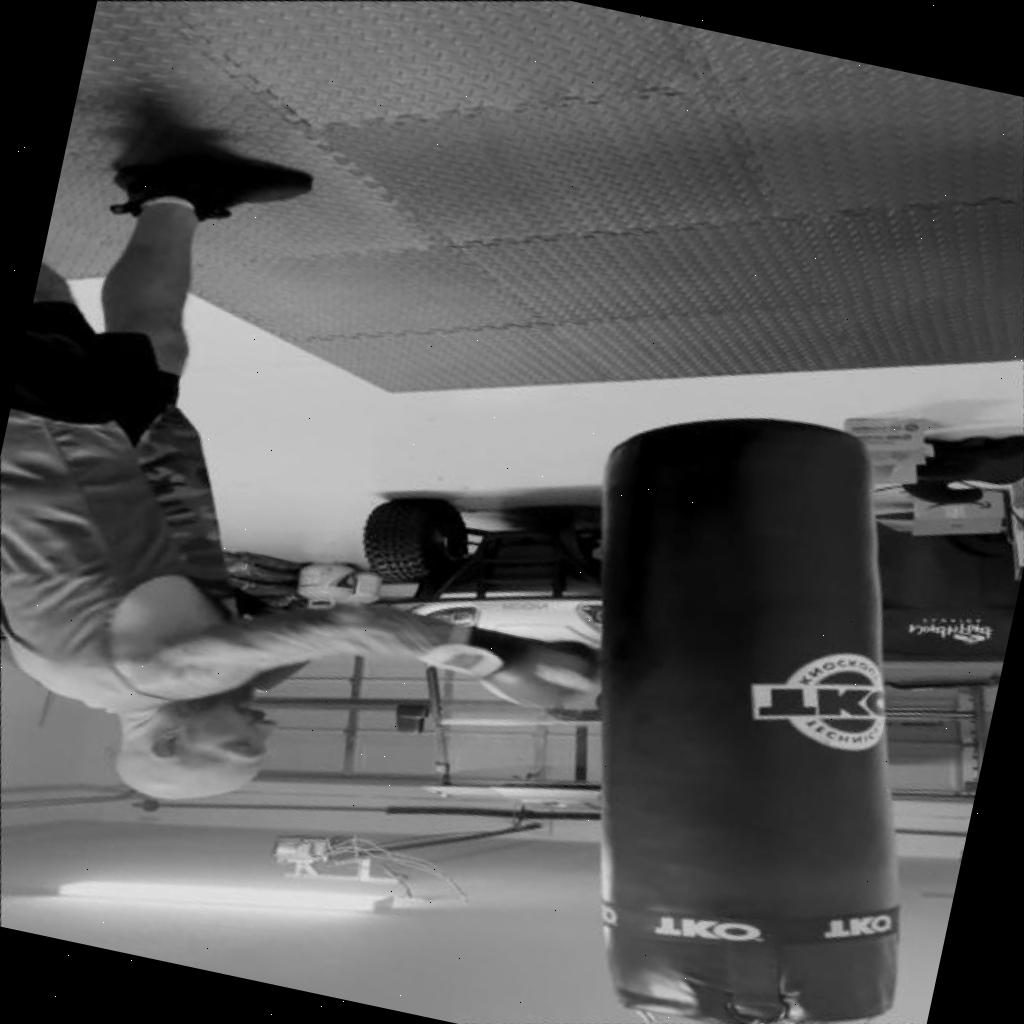bag: (470, 357, 1019, 1024)
cross: (0, 428, 703, 973)
